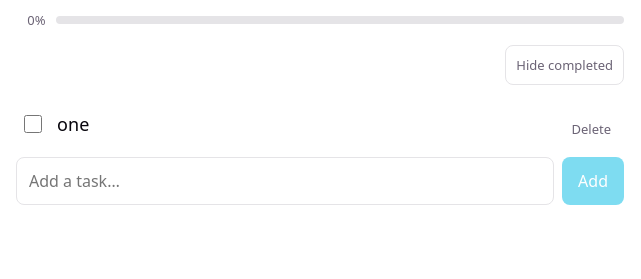
TodoPage › renames a todo
Click the text with test id "todo-title". click: coordinates (73, 124)
box: [57,112,90,136]
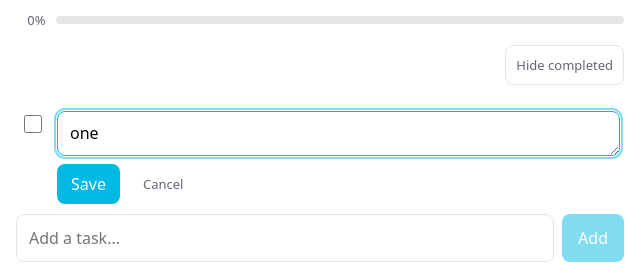
Replace the text in the text box with test id "todo-edit-input" with "renamed". click: coordinates (338, 133)
box: [57,111,620,156]
Then press Enter
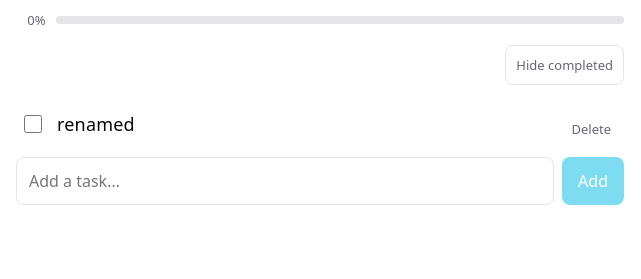
Check: the text "renamed" is shown, box [57,112,135,136]
